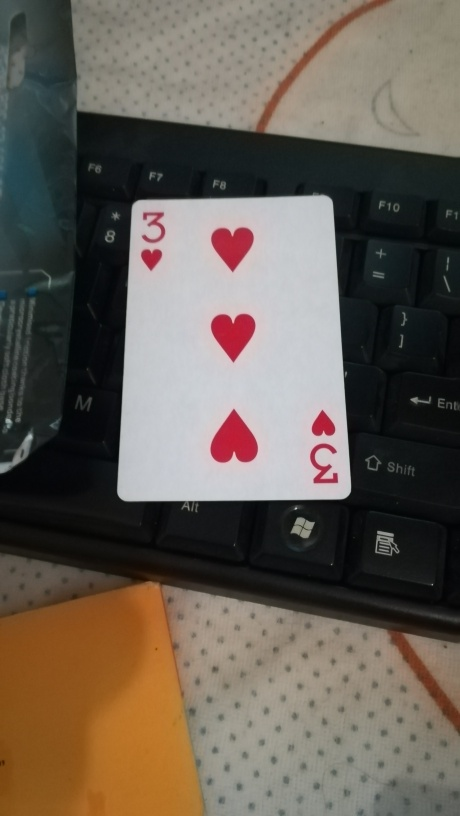hx 3: (116, 193, 351, 502)
